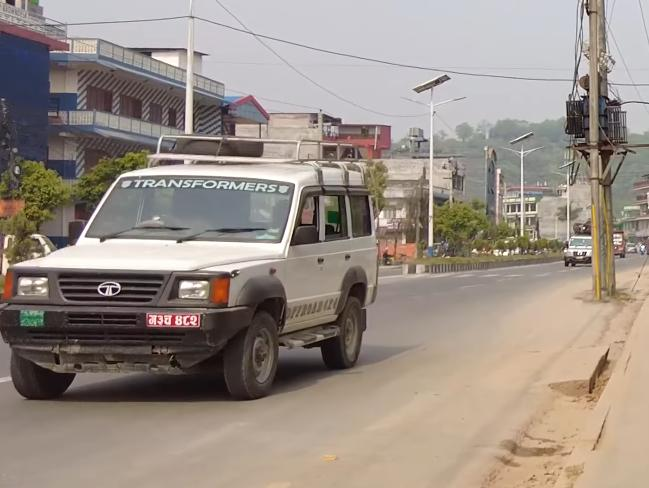SUV: (15, 133, 391, 414), (561, 231, 599, 267)
